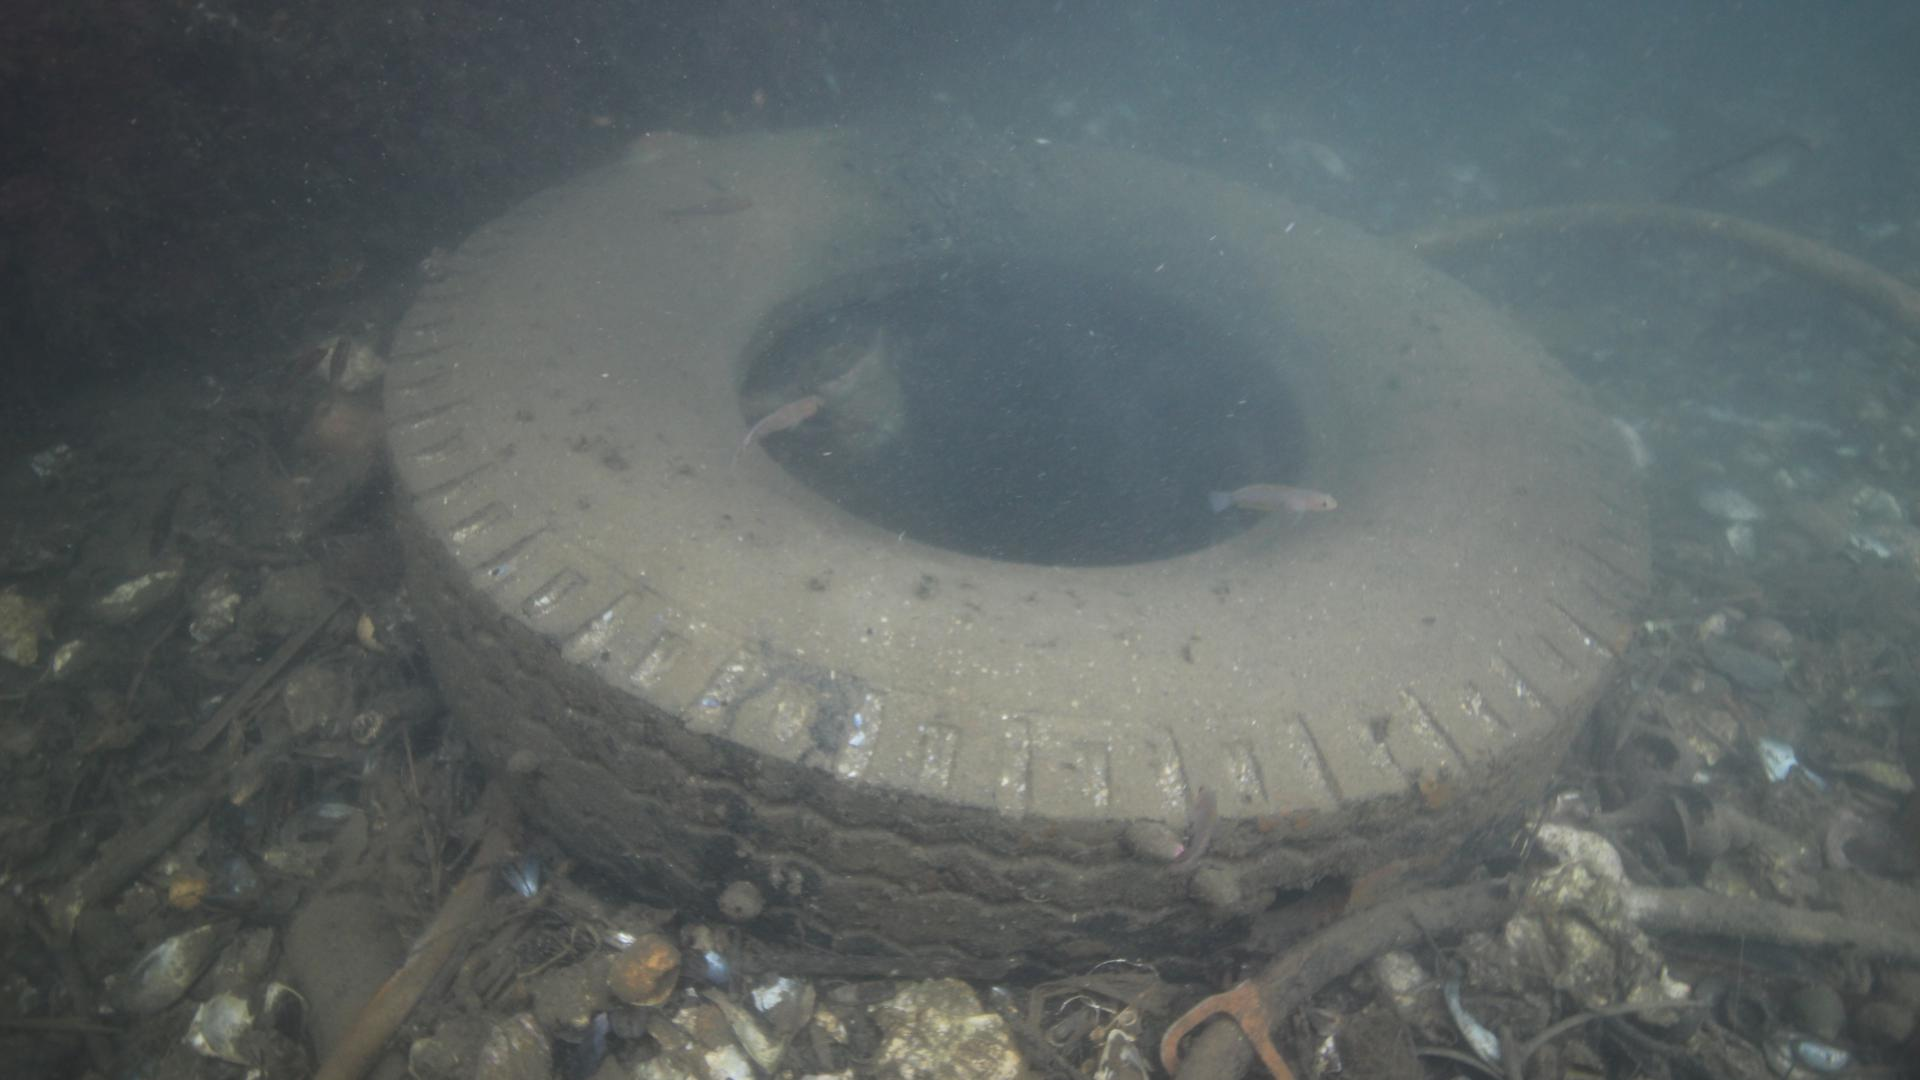tire: (378, 125, 1651, 989)
